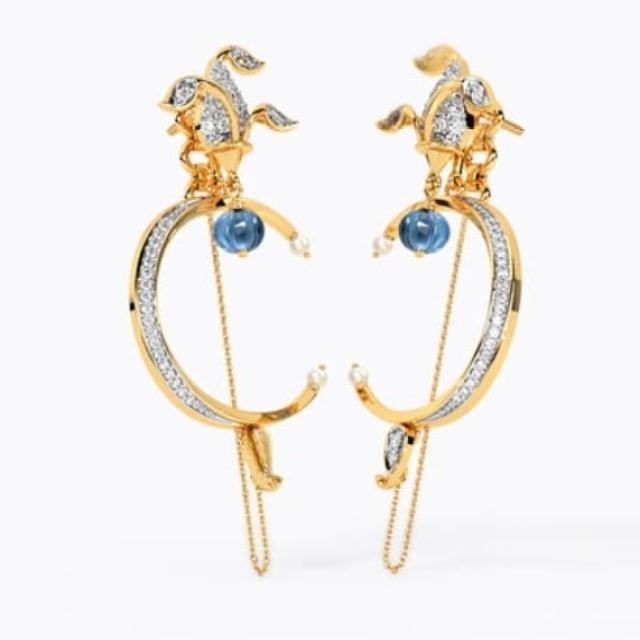missing gem: (251, 426, 280, 477), (417, 46, 452, 71), (376, 106, 402, 127)
